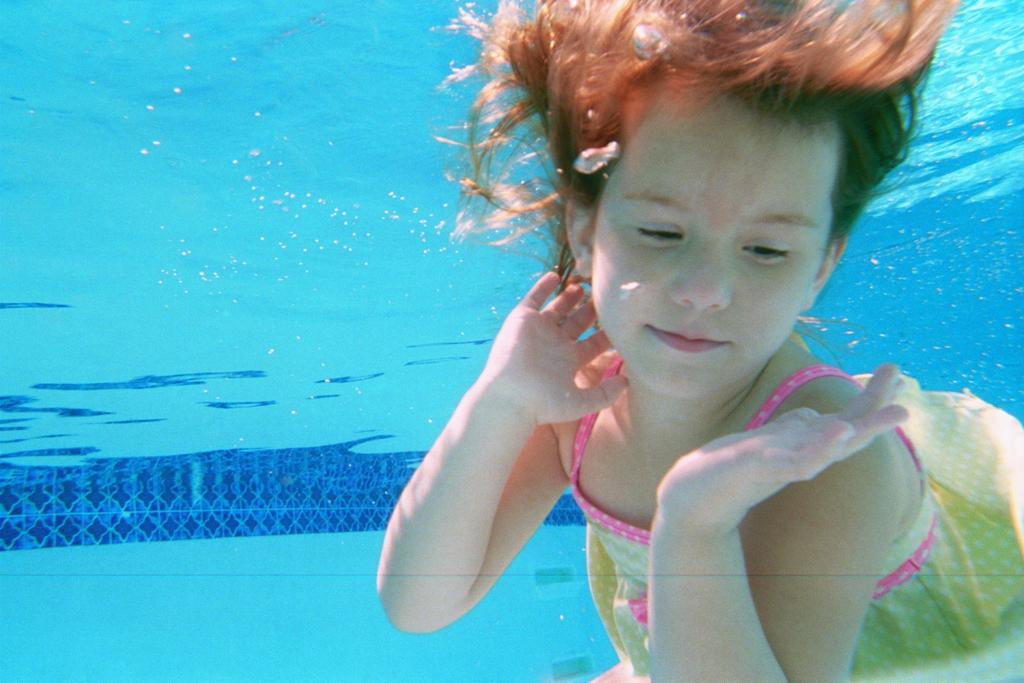face: (598, 136, 820, 396)
